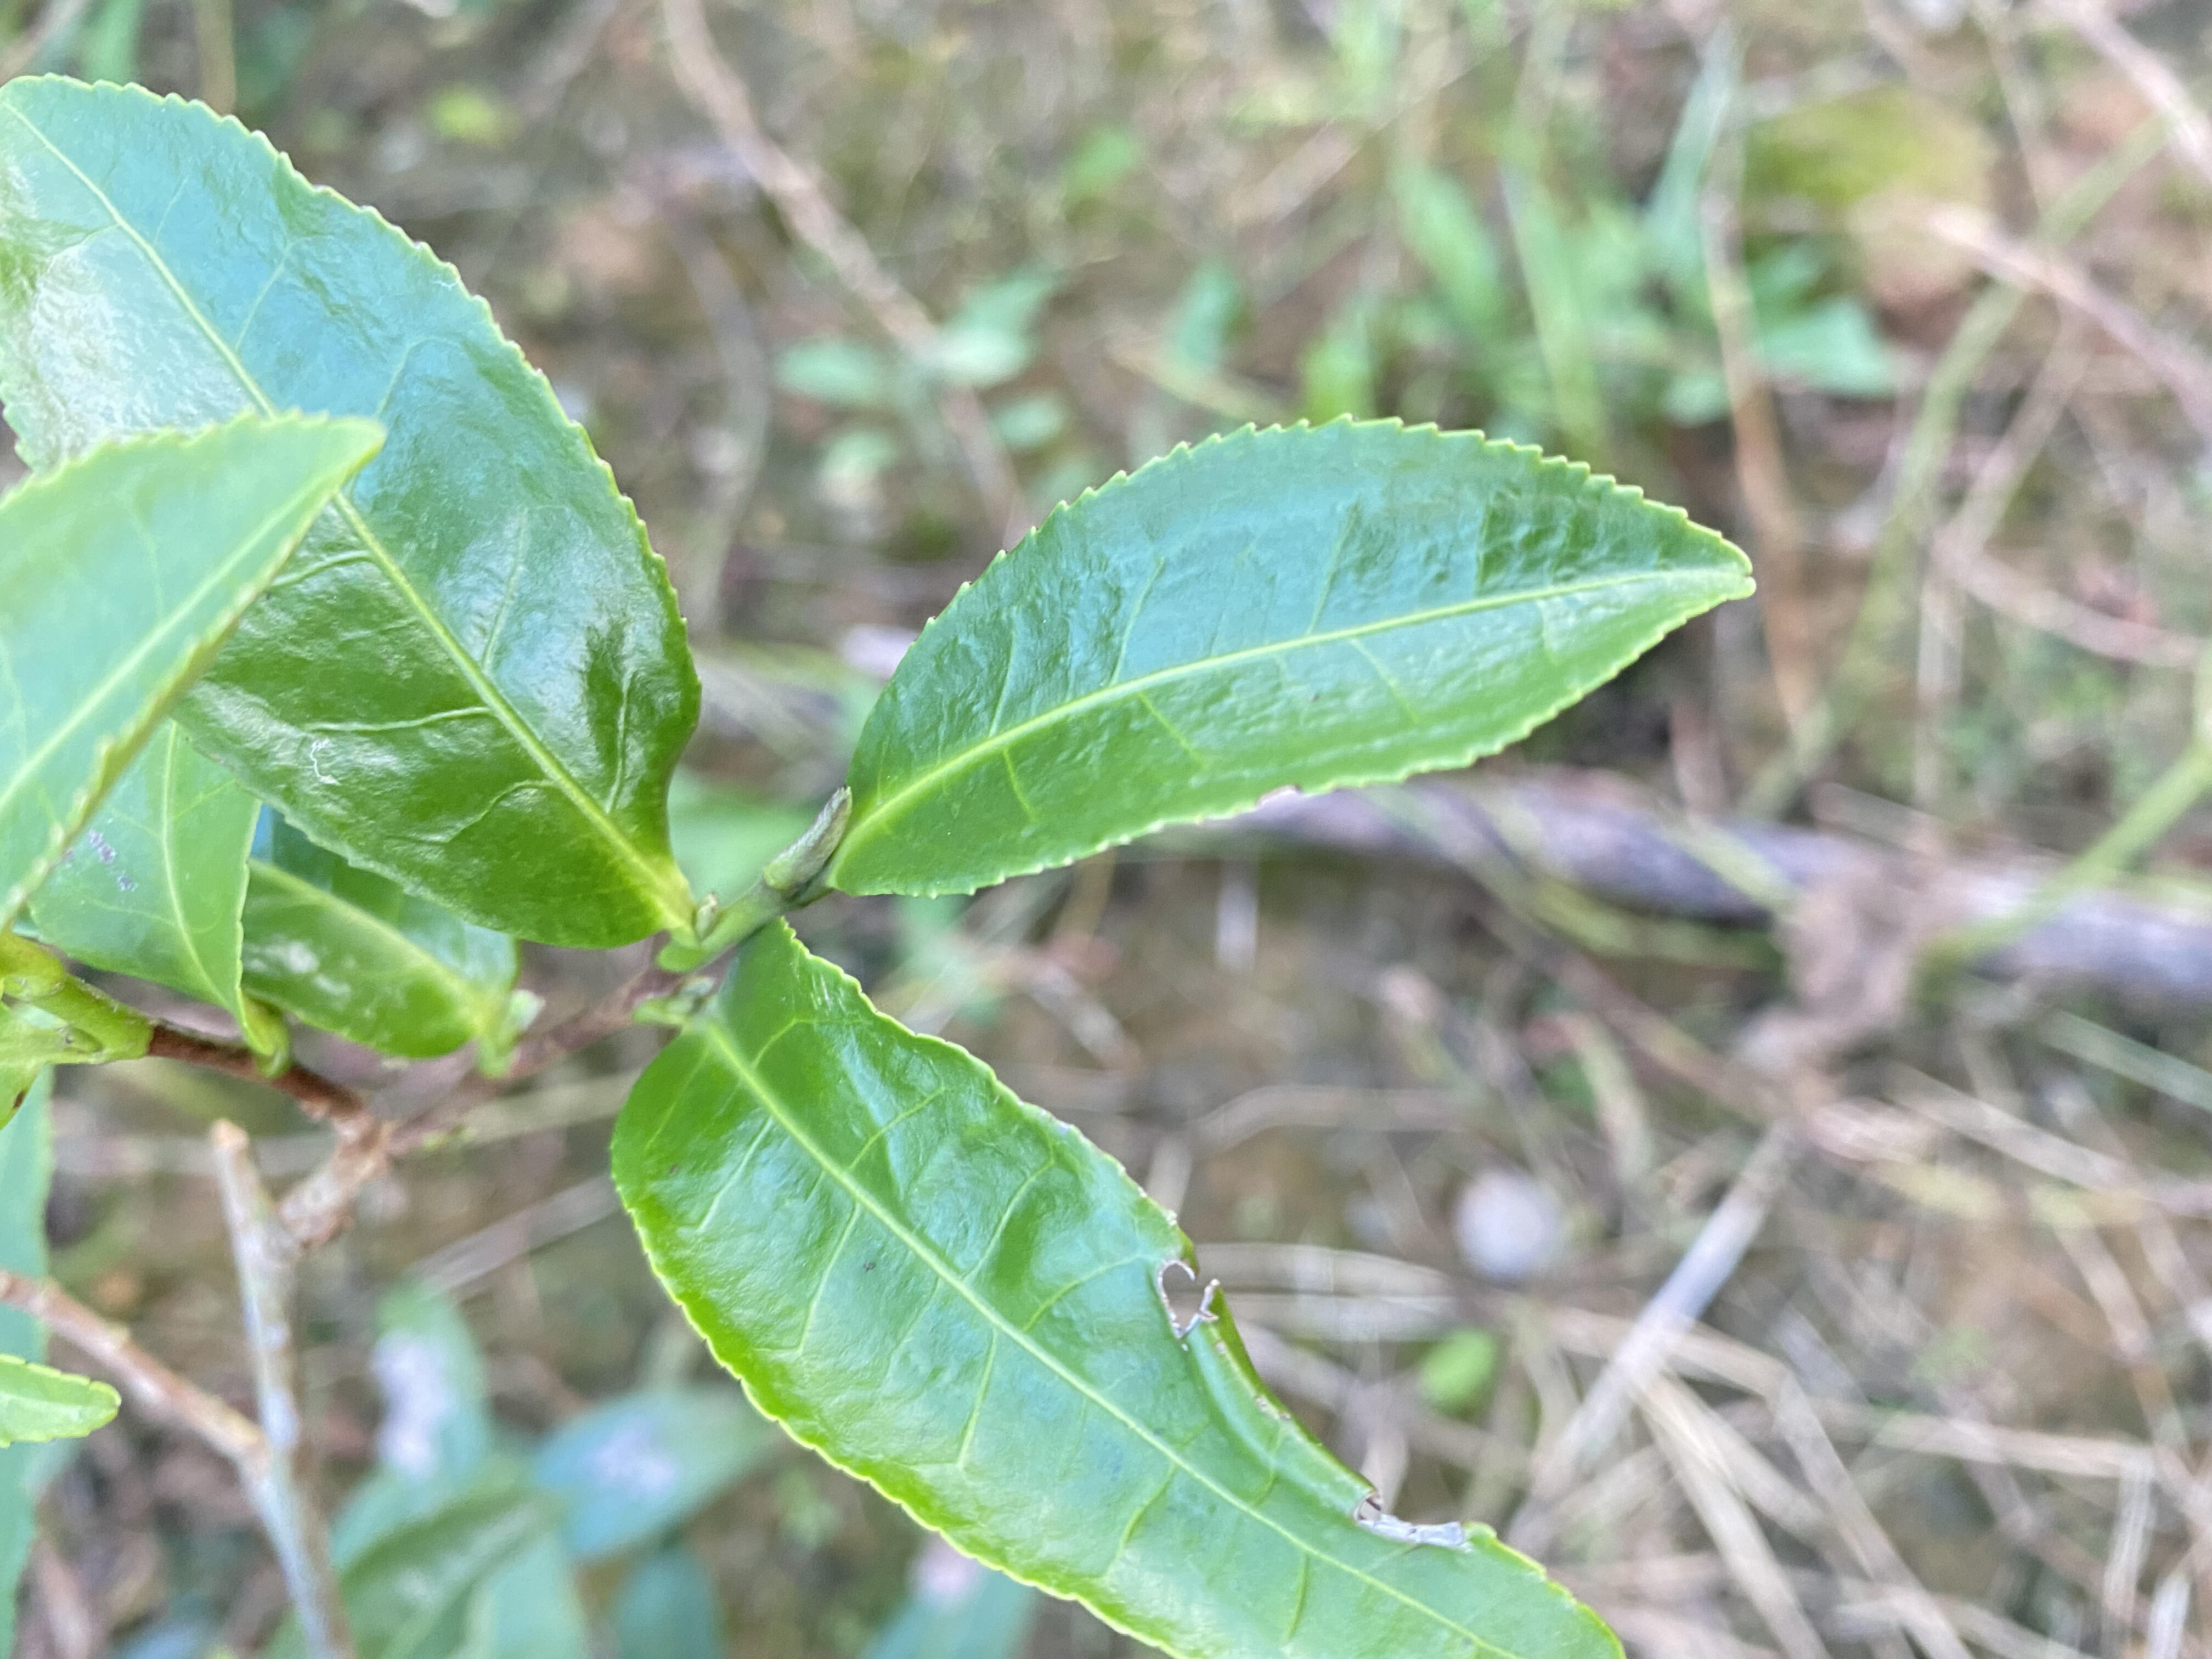chihuo_low: (613, 908, 1620, 1656)
healthy: (2, 73, 704, 948), (833, 410, 1761, 901)
